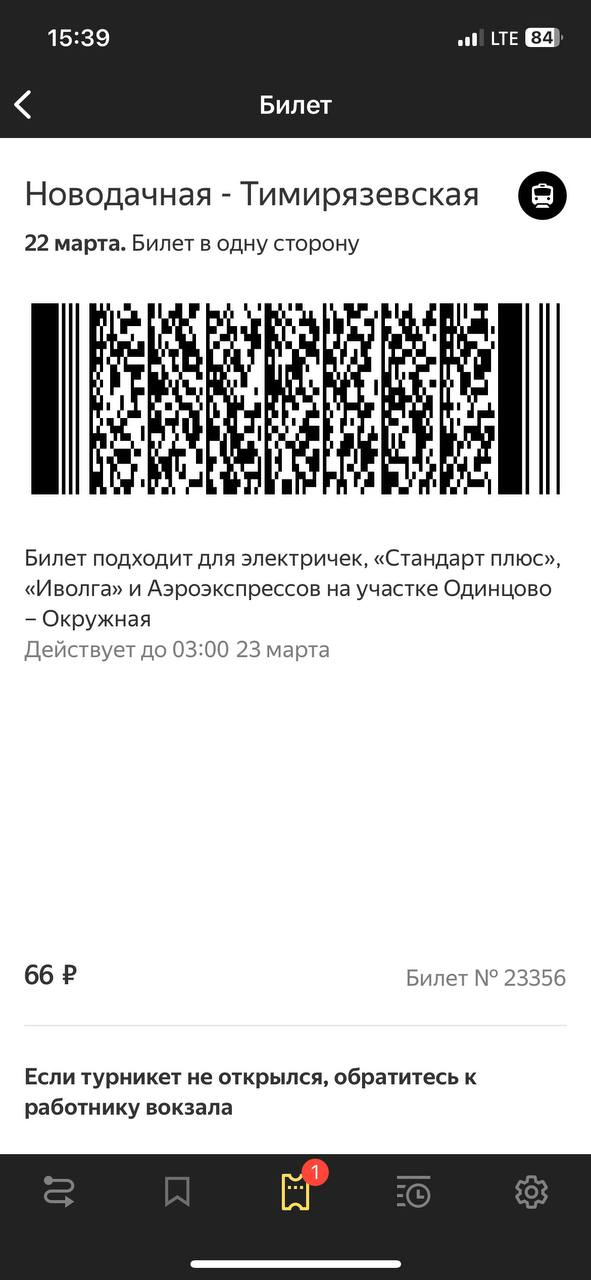2d: (29, 301, 562, 496)
